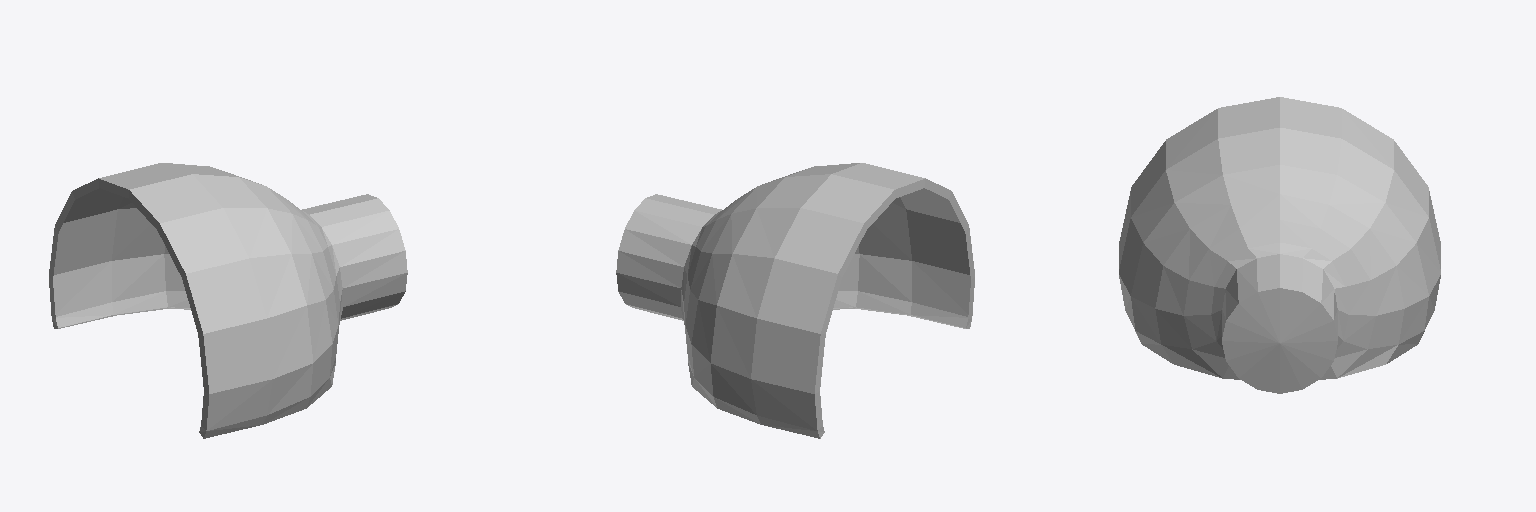
The model's file is cylinder_to_half_squashed_cylinder.obj.
3 renders of one model, left to right at view 1: azimuth 30°, elevation 25°; view 2: azimuth 150°, elevation 25°; view 3: azimuth 270°, elevation 25°, orthographic.
Visible parts, largest first — view 1: cylinder_to_half_squashed_cylinder; view 2: cylinder_to_half_squashed_cylinder; view 3: cylinder_to_half_squashed_cylinder.
Boxes of the visible parts, x1=… form: cylinder_to_half_squashed_cylinder: x1=49, y1=163, x2=407, y2=438; cylinder_to_half_squashed_cylinder: x1=616, y1=163, x2=974, y2=438; cylinder_to_half_squashed_cylinder: x1=1119, y1=97, x2=1440, y2=393.
Size of the model in its own units: 4.27 by 3.12 by 4.68.